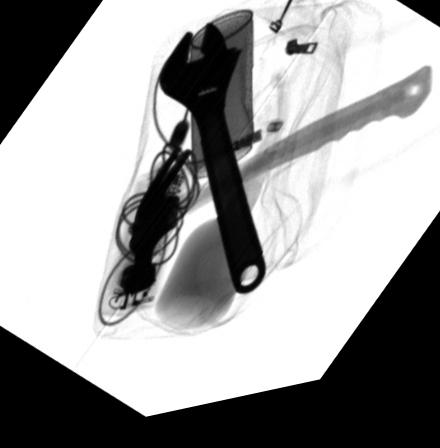Hammer: (119, 84, 434, 302)
Wrench: (158, 31, 267, 304)
